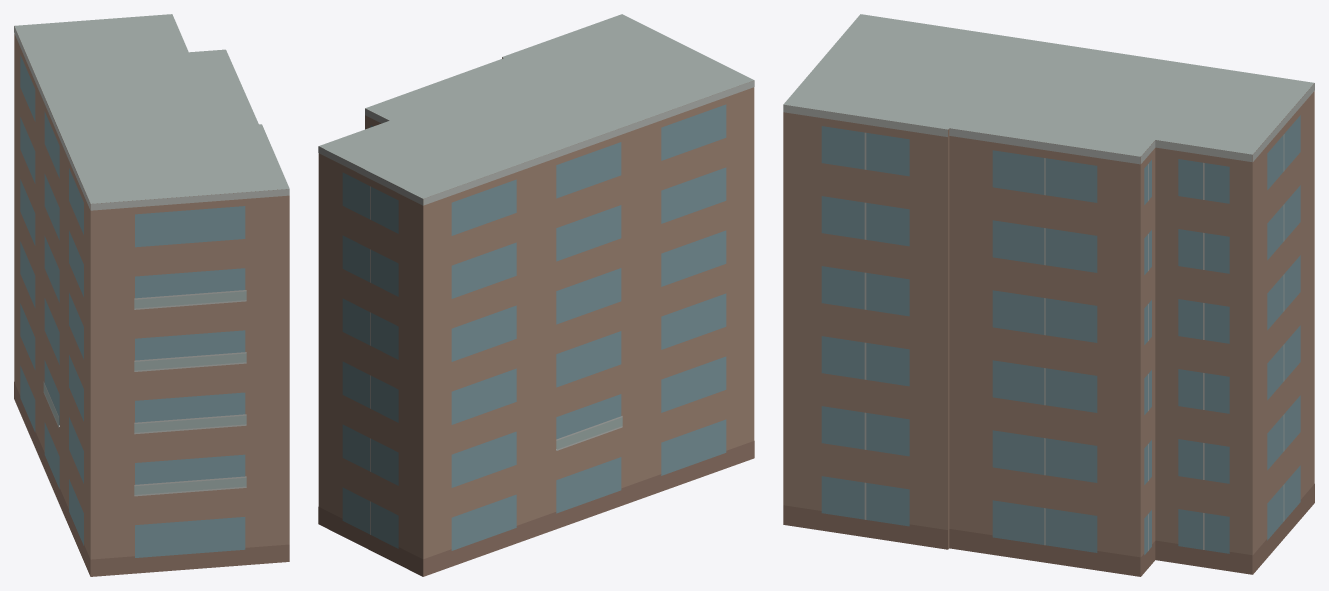
The model's file is survey-upis-33028091.glb.
The picture shows the model from 3 angles, left to right: view 1: azimuth 30°, elevation 25°; view 2: azimuth 150°, elevation 25°; view 3: azimuth 270°, elevation 25°; orthographic projection. The views are drawn at different scales.
Parts seen in each view (by area): view 1: survey-upis-33028091.tmp; view 2: survey-upis-33028091.tmp; view 3: survey-upis-33028091.tmp.
Boxes of the visible parts, x1,y1,x2,y2 form: survey-upis-33028091.tmp: [14, 14, 289, 576]; survey-upis-33028091.tmp: [318, 14, 754, 576]; survey-upis-33028091.tmp: [783, 14, 1314, 576].
Bounding box in the file's own units: 9.81 × 13.45 × 15.43.
